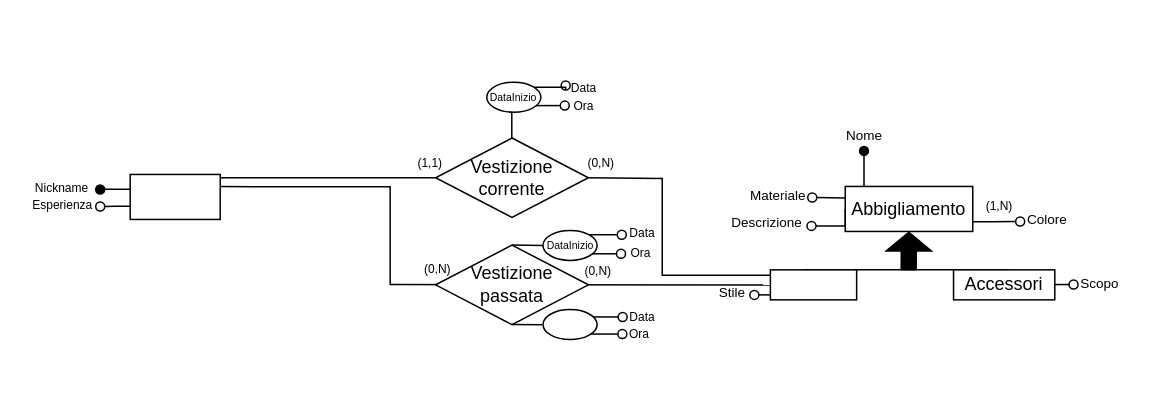
Some shapes in this 1155 by 401 pixel diagram are drawn without their labels. The shapes that lost their labels are listed below. From the top down, each one's centre as x and y in pixels, then its label:
At (174,196): "Avatar".
At (813,284): "Abito".
At (569,324): "DataFine".
